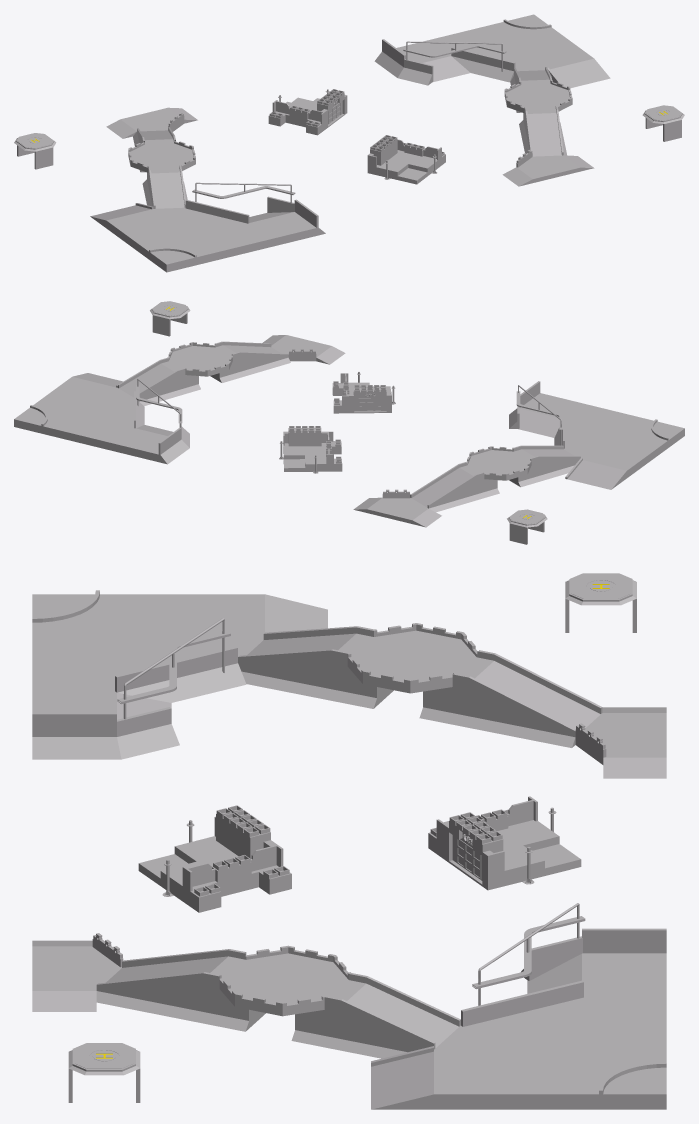
File: map3.obj
3 views of the same model, one above another, from view 1: azimuth 30°, elevation 25°; view 2: azimuth 150°, elevation 25°; view 3: azimuth 270°, elevation 25° (orthographic). The views are drawn at different scales.
Visible parts, largest first — view 1: RMmap_RM场地总装; view 2: RMmap_RM场地总装; view 3: RMmap_RM场地总装.
Boxes of the visible parts, left/top/right/bottom form: RMmap_RM场地总装: left=14, top=14, right=684, bottom=272; RMmap_RM场地总装: left=14, top=301, right=684, bottom=544; RMmap_RM场地总装: left=32, top=573, right=666, bottom=1109.
Bounding box in the file's own units: 280 × 17.2 × 150.
1 material, 1 textured.
